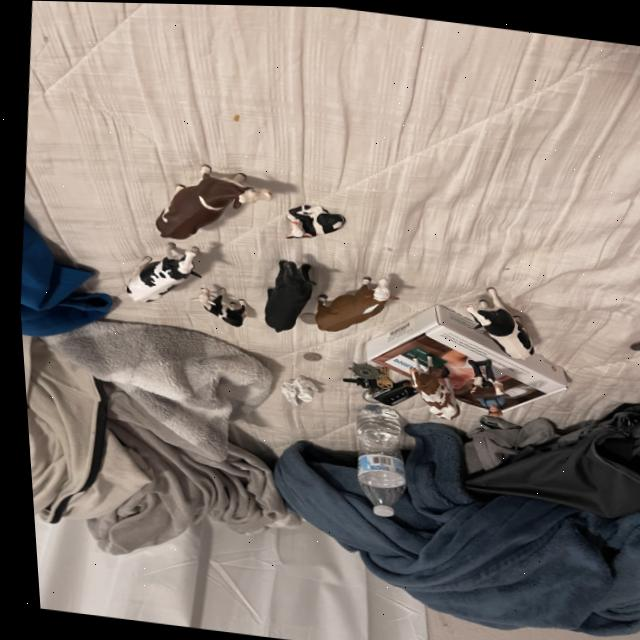cow: (142, 155, 248, 251), (111, 231, 206, 309), (302, 266, 398, 336), (459, 283, 537, 366), (250, 252, 317, 337), (400, 356, 456, 426), (189, 277, 248, 329), (281, 202, 343, 237), (461, 368, 500, 400)
person: (472, 391, 503, 417)
